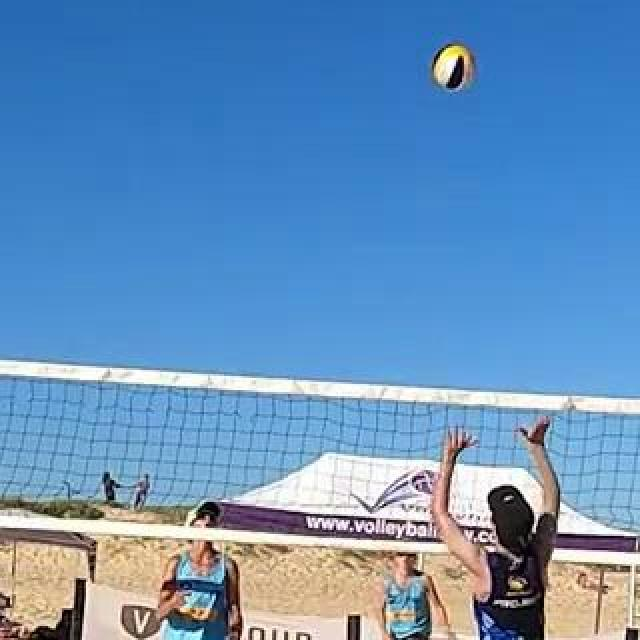volleyball: (433, 45, 475, 87)
